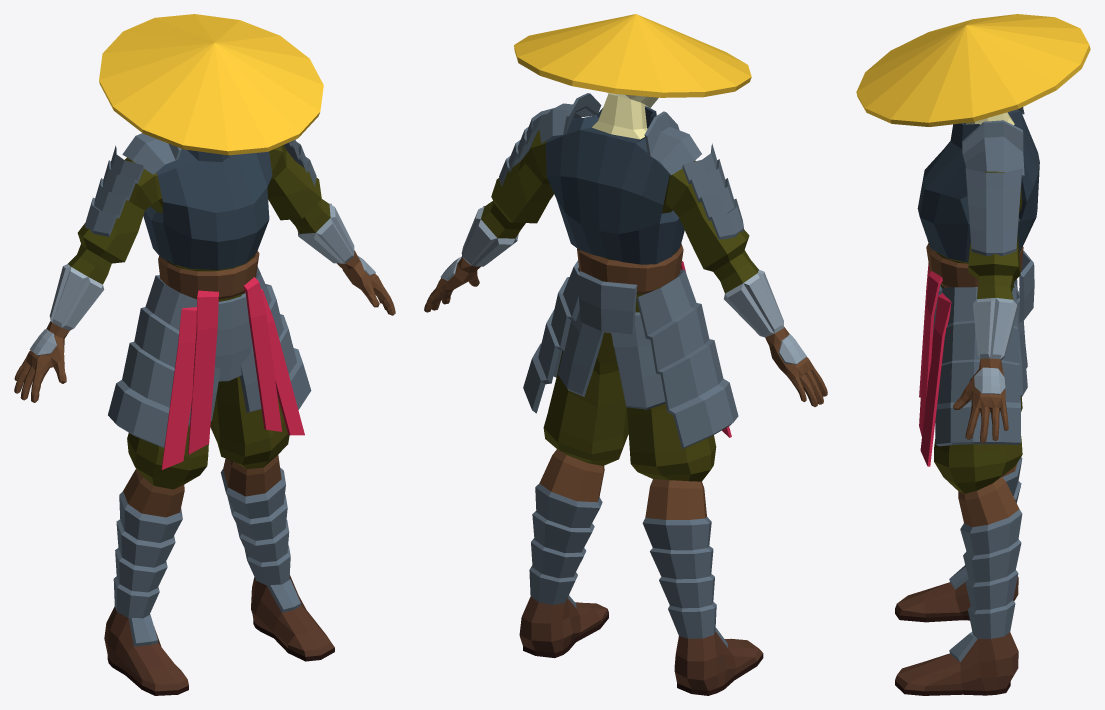
File: ronin.glb
3 views of the same model, side by side, from view 1: azimuth 30°, elevation 25°; view 2: azimuth 150°, elevation 25°; view 3: azimuth 270°, elevation 25° (orthographic). The views are drawn at different scales.
Parts seen in each view (by area): view 1: Cube; view 2: Cube; view 3: Cube.
Part boxes in pixels (x1,y1,x2,y2): Cube: (14, 14, 395, 695); Cube: (424, 14, 827, 695); Cube: (856, 14, 1090, 695).
Size of the model in its own units: 1.22 by 1.92 by 0.6521.
Materials: 1 (1 with a texture image).
